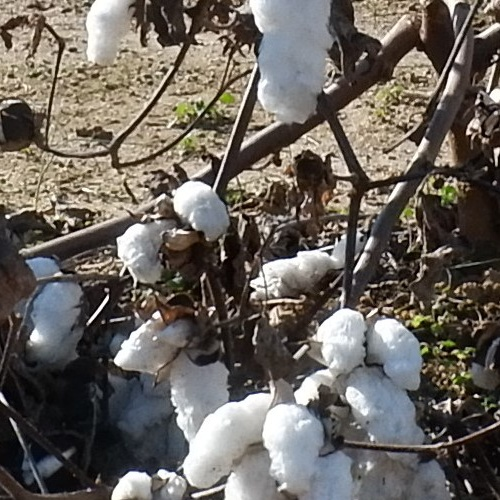mature_boll: (255, 313, 452, 500), (223, 2, 355, 133), (101, 166, 222, 302), (113, 315, 227, 420), (8, 249, 90, 370), (254, 243, 338, 305), (69, 3, 144, 72)
